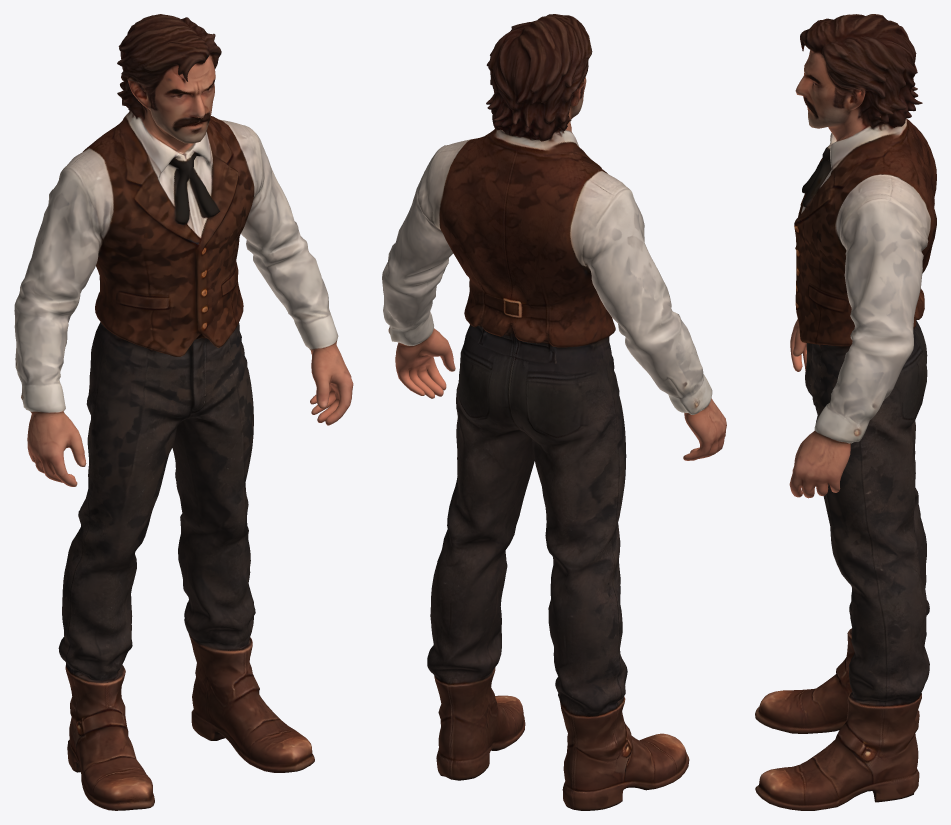
The model's file is bold_cowboy_vest_dressed_rodin.glb.
The picture shows the model from 3 angles, left to right: view 1: azimuth 30°, elevation 25°; view 2: azimuth 150°, elevation 25°; view 3: azimuth 270°, elevation 25°; orthographic projection.
Visible parts, largest first — view 1: model; view 2: model; view 3: model.
Boxes of the visible parts, x1=… form: model: x1=14, y1=14, x2=353, y2=810; model: x1=382, y1=14, x2=726, y2=810; model: x1=755, y1=14, x2=936, y2=810.
Size of the model in its own units: 0.8373 by 1.9 by 0.4201.
Materials: 1 (1 with a texture image).
